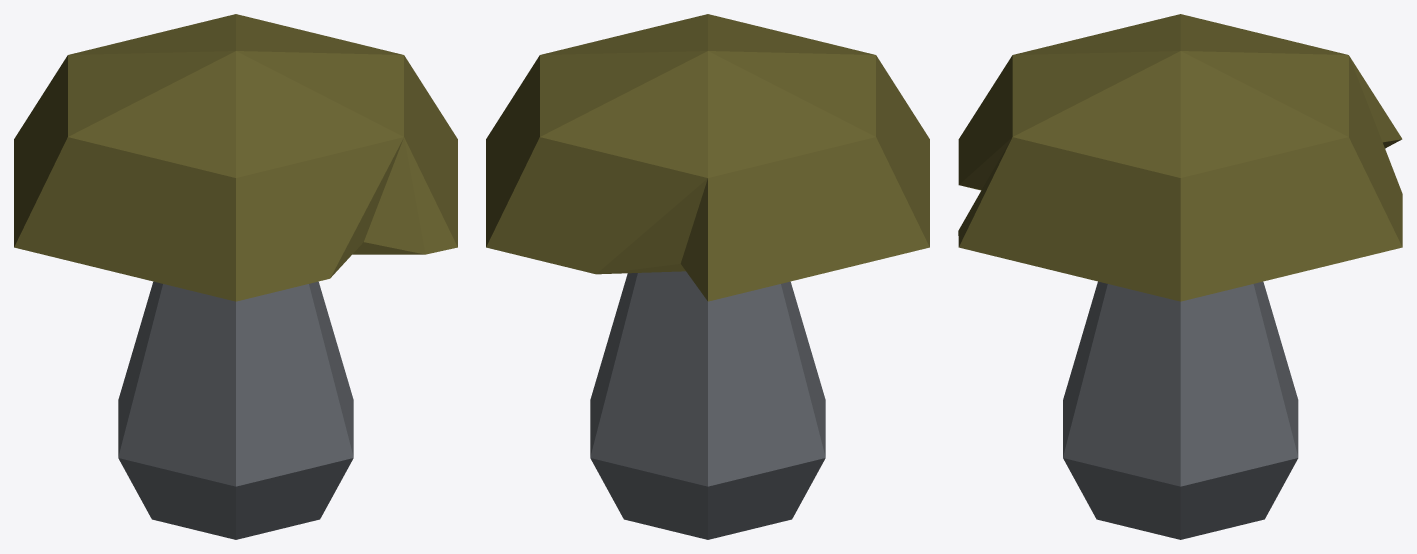
The model's file is SM_Env_Mushroom_01.fbx.
3 renders of one model, left to right at view 1: azimuth 30°, elevation 25°; view 2: azimuth 150°, elevation 25°; view 3: azimuth 270°, elevation 25°, orthographic.
Parts seen in each view (by area): view 1: SM_Env_Mushroom_01; view 2: SM_Env_Mushroom_01; view 3: SM_Env_Mushroom_01.
Boxes of the visible parts, <box> form: SM_Env_Mushroom_01: <box>14,14,457,539</box>; SM_Env_Mushroom_01: <box>486,14,929,539</box>; SM_Env_Mushroom_01: <box>958,14,1402,539</box>.
Bounding box in the file's own units: 0.00628 × 0.00605 × 0.00544.
Materials: 1 (1 with a texture image).
